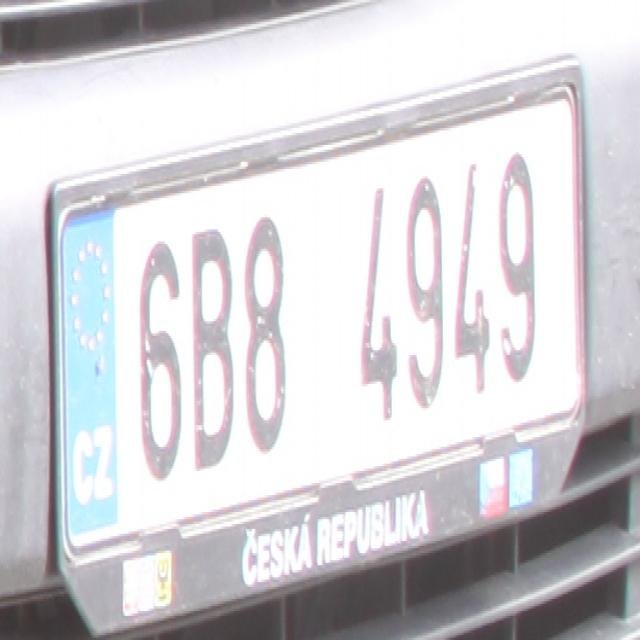4: (359, 184, 399, 428), (452, 164, 491, 396)
6: (138, 237, 184, 483)
8: (244, 213, 284, 454)
9: (405, 176, 445, 411), (496, 154, 535, 376)
B: (190, 222, 233, 469)
